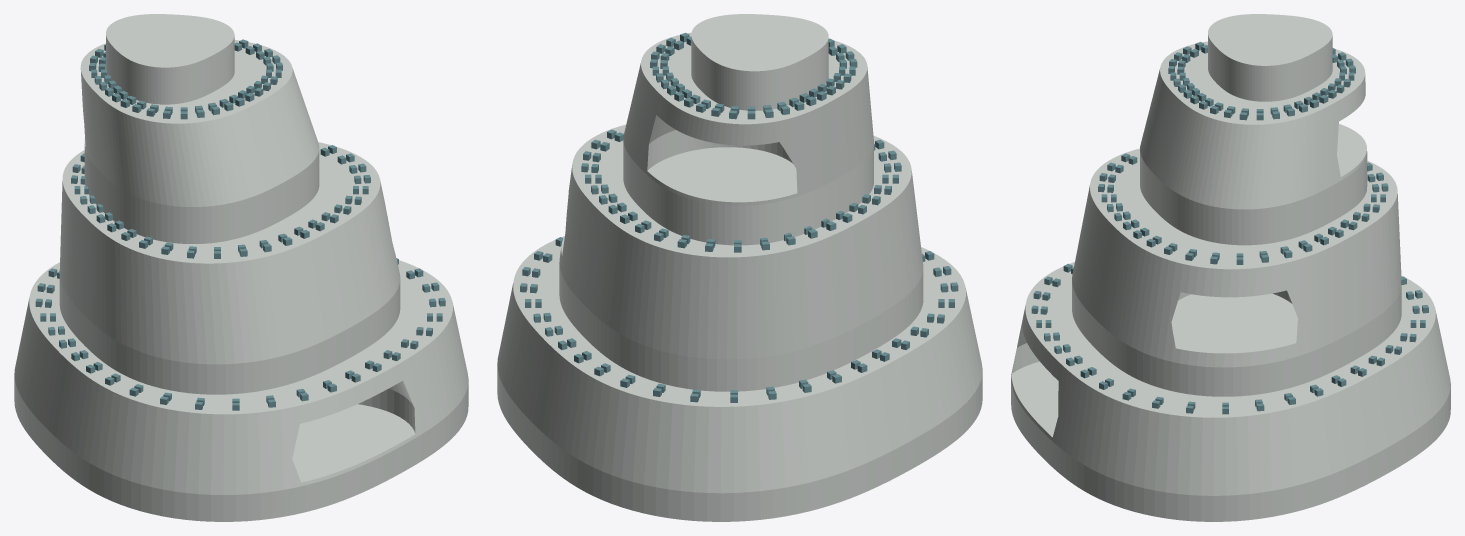
3 views of the same model, side by side, from view 1: azimuth 30°, elevation 25°; view 2: azimuth 150°, elevation 25°; view 3: azimuth 270°, elevation 25° (orthographic). The views are drawn at different scales.
Parts seen in each view (by area): view 1: P2_SINGLE_SHARED_CIVIC_MASS; view 2: P2_SINGLE_SHARED_CIVIC_MASS; view 3: P2_SINGLE_SHARED_CIVIC_MASS.
Part boxes in pixels (x1,y1,x2,y2): P2_SINGLE_SHARED_CIVIC_MASS: [14, 14, 468, 521]; P2_SINGLE_SHARED_CIVIC_MASS: [497, 14, 982, 521]; P2_SINGLE_SHARED_CIVIC_MASS: [1011, 14, 1450, 521].
Bounding box in the file's own units: 6035 × 5600 × 6117.
